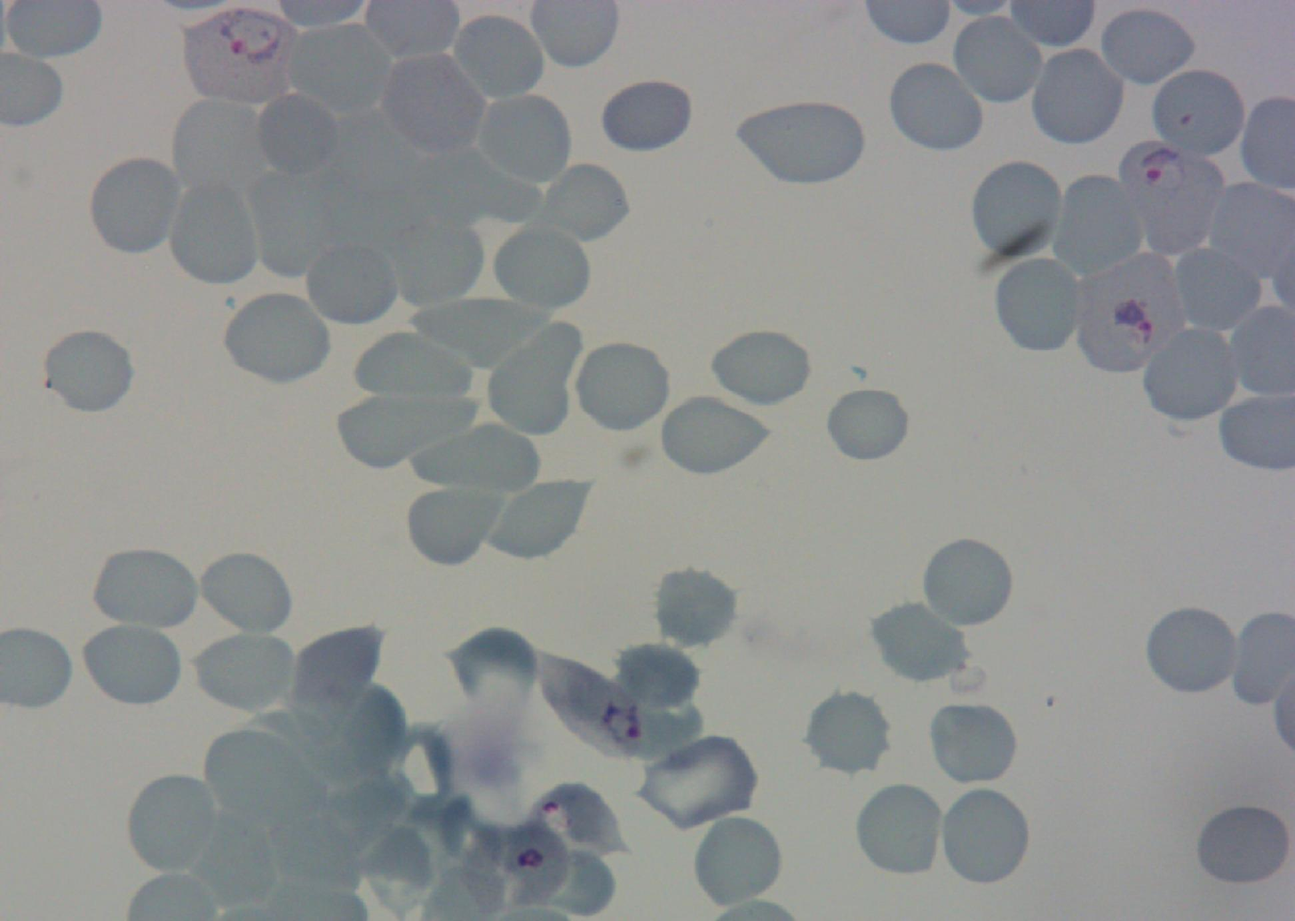Infected: (535, 651, 652, 763), (1079, 252, 1184, 372), (181, 5, 297, 105), (1118, 139, 1224, 248), (464, 824, 570, 912), (527, 780, 628, 861)
Uninfected: (207, 731, 324, 838), (483, 319, 586, 436), (640, 733, 757, 830), (737, 103, 865, 188), (224, 290, 332, 386), (418, 147, 545, 226), (167, 182, 263, 286), (336, 397, 478, 467), (1030, 45, 1126, 148), (411, 422, 542, 497), (969, 159, 1064, 262), (1053, 174, 1148, 277), (185, 809, 280, 912), (285, 18, 392, 109), (1146, 66, 1247, 162), (411, 295, 547, 366), (295, 625, 384, 733), (87, 156, 184, 255), (886, 57, 986, 153), (126, 773, 221, 874), (1141, 324, 1239, 421), (657, 394, 771, 477), (938, 786, 1031, 887), (476, 93, 574, 188), (572, 341, 672, 434), (263, 813, 367, 902), (93, 548, 201, 633), (303, 234, 402, 326), (385, 53, 479, 149), (691, 814, 784, 911), (1144, 603, 1241, 696), (994, 256, 1086, 354), (177, 93, 269, 191), (485, 474, 588, 561), (951, 11, 1045, 106), (853, 782, 946, 878), (493, 221, 591, 312), (919, 537, 1015, 629), (192, 630, 296, 714), (1192, 802, 1292, 889), (40, 328, 137, 416), (197, 549, 294, 637), (1096, 5, 1198, 88), (249, 172, 332, 274), (396, 213, 488, 305), (450, 13, 546, 101), (318, 774, 419, 856), (1170, 243, 1265, 330), (357, 330, 465, 406), (329, 682, 410, 783), (404, 484, 502, 567), (711, 325, 811, 403), (803, 689, 892, 776), (536, 161, 630, 242), (83, 627, 180, 705), (598, 78, 694, 156), (364, 814, 437, 914), (651, 566, 738, 649), (254, 93, 340, 176), (823, 384, 913, 463), (871, 604, 961, 681), (929, 701, 1020, 777), (448, 627, 538, 699), (614, 641, 700, 708), (542, 852, 616, 916)
